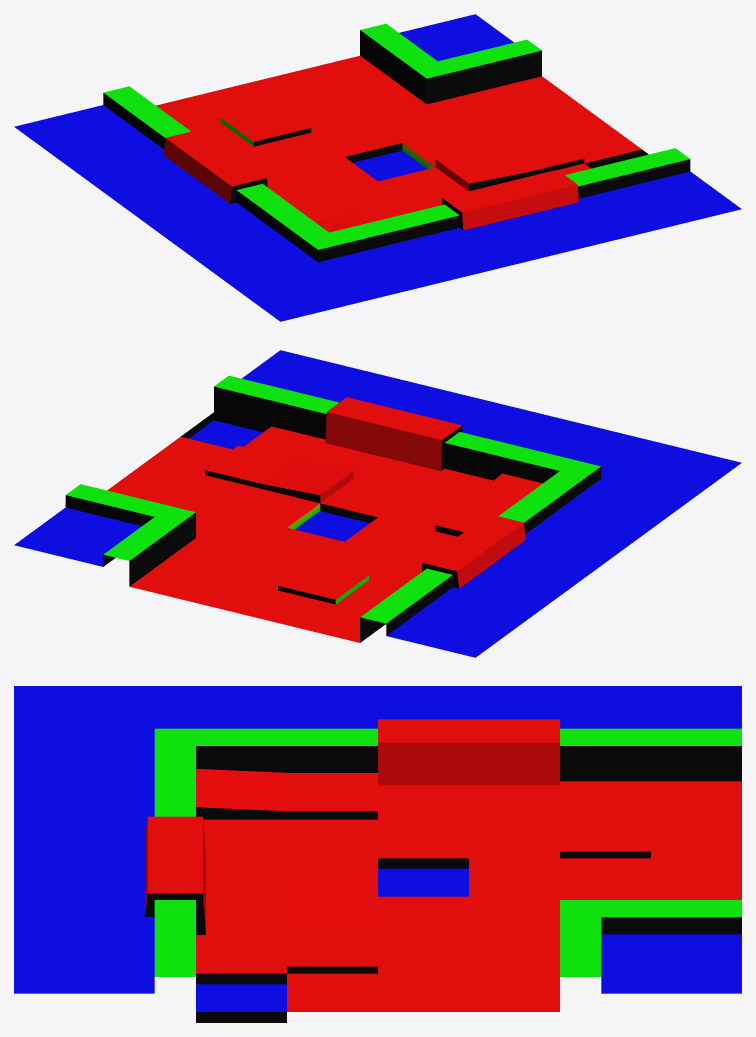
File: Road_Corner_Rough_v1.fbx
3 views of the same model, one above another, from view 1: azimuth 30°, elevation 25°; view 2: azimuth 150°, elevation 25°; view 3: azimuth 270°, elevation 25° (orthographic). The views are drawn at different scales.
Visible parts, largest first — view 1: Cube.023; view 2: Cube.023; view 3: Cube.023.
Part boxes in pixels (<box>): Cube.023: <box>14,14,741,321</box>; Cube.023: <box>14,350,741,657</box>; Cube.023: <box>14,686,741,1022</box>.
Bounding box in the file's own units: 100 × 7.94 × 100.
